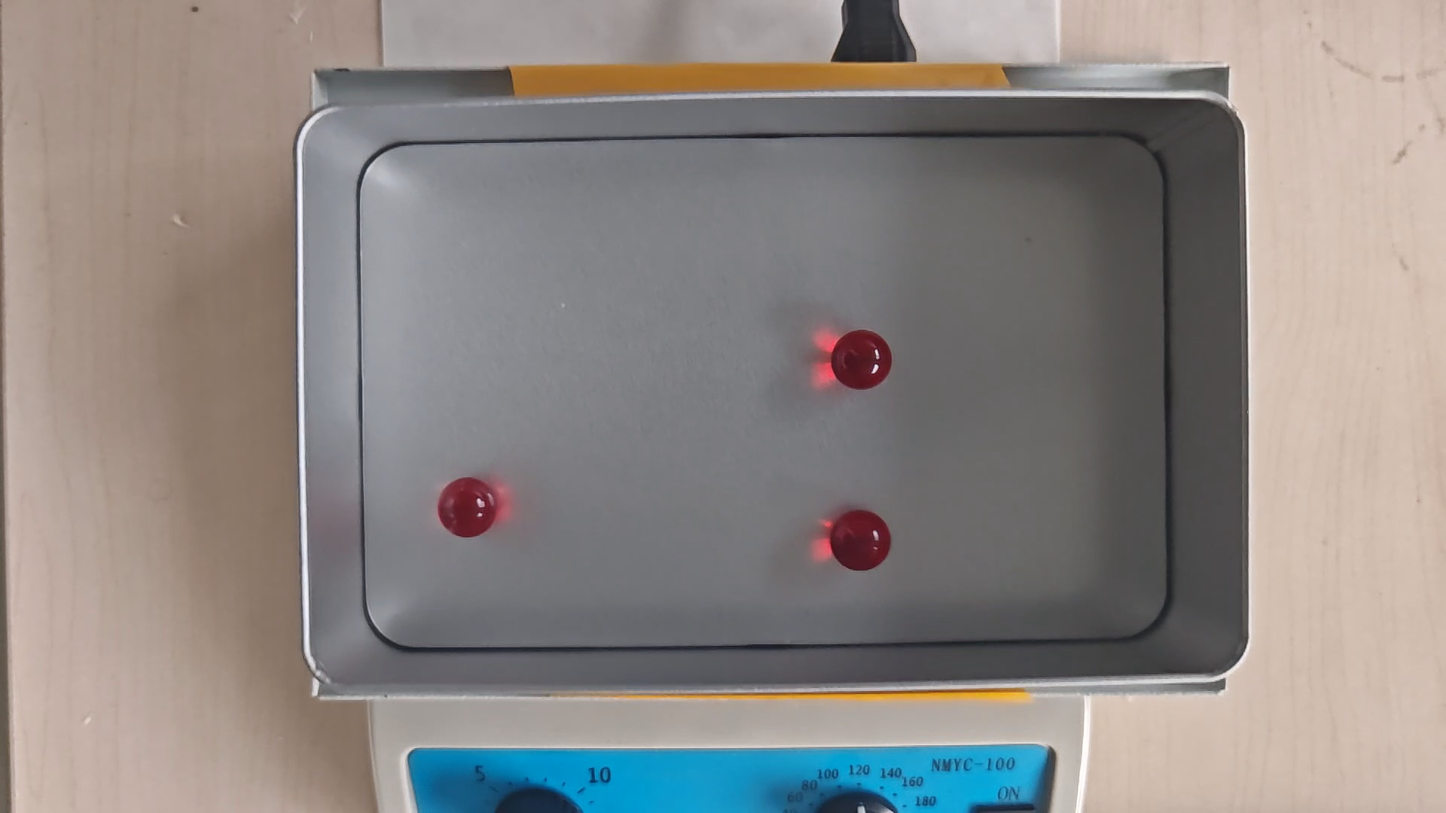ball: (829, 510, 892, 571), (438, 476, 499, 538), (831, 329, 892, 391)
container: (359, 139, 1169, 641)
